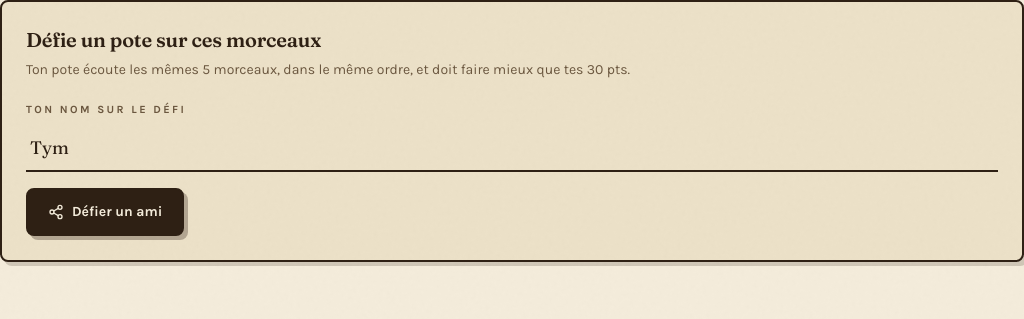
Scenario: ChallengeInvite › apres une erreur reseau, un nouvel essai cree bien le defi
This screenshot has width=1024, height=319.
Later steps or results of the test are not shown.
What coordinates should you click on to do the following:
click the button "Défier un ami"
I would click on:
 (105, 212)
Its box is 26,188 -> 184,236.
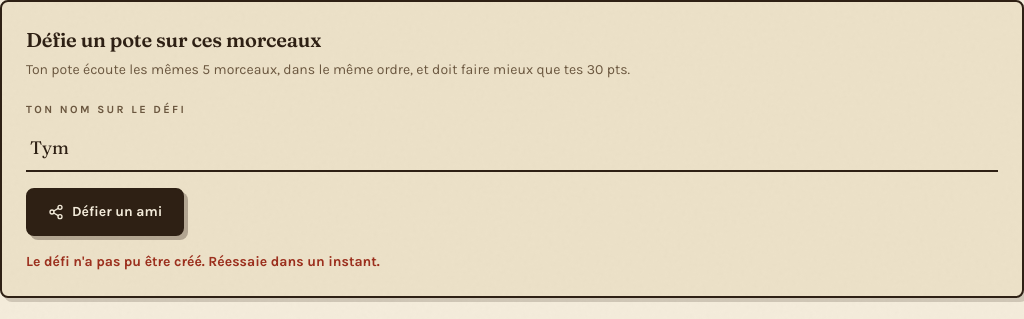
Check: the message shows "Le défi n'a pas pu être créé", box 26,253 -> 380,270
